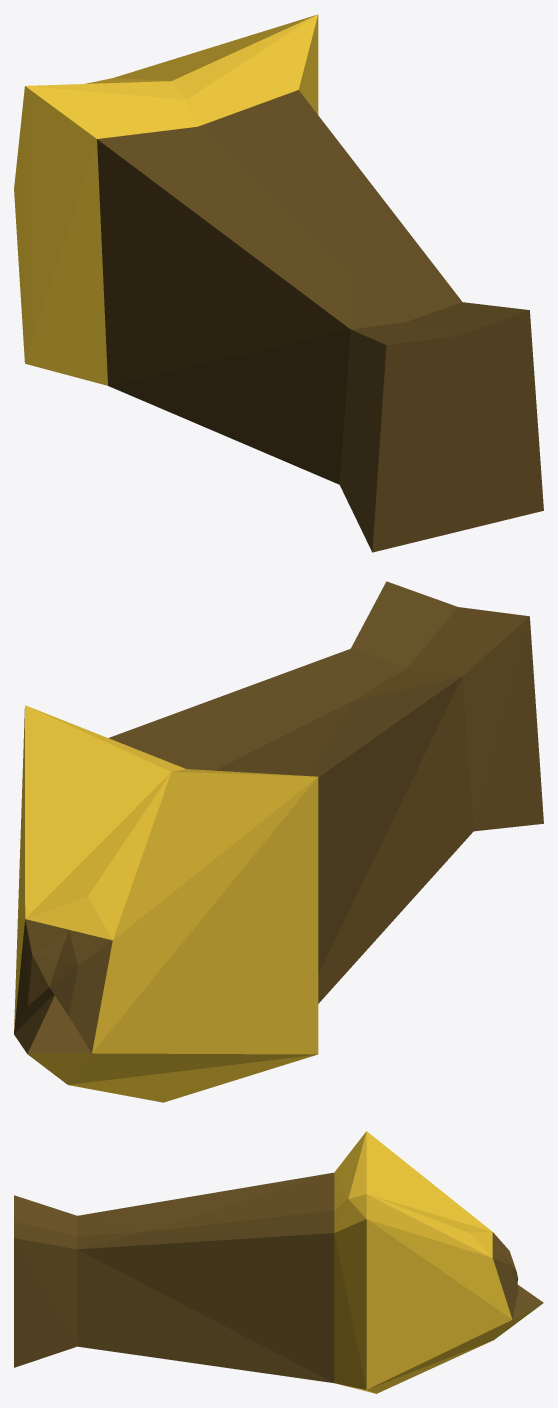
Rendered from Rocket.fbx.
The picture shows the model from 3 angles, top to bottom: view 1: azimuth 30°, elevation 25°; view 2: azimuth 150°, elevation 25°; view 3: azimuth 270°, elevation 25°; orthographic projection. The views are drawn at different scales.
Parts seen in each view (by area): view 1: Rocket; view 2: Rocket; view 3: Rocket.
Part boxes in pixels (bbox=[...]): Rocket: bbox=[14, 14, 543, 552]; Rocket: bbox=[14, 581, 543, 1102]; Rocket: bbox=[14, 1131, 543, 1393].
Size of the model in its own units: 73.41 by 85.12 by 187.
